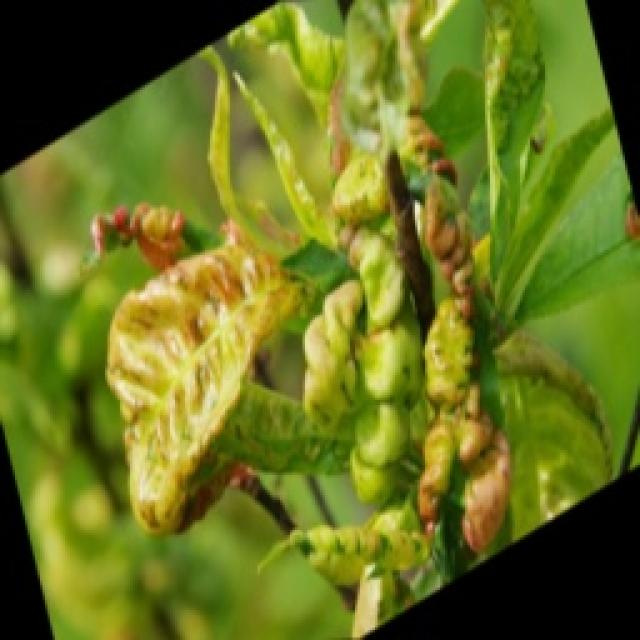Golden_canker: (90, 208, 305, 538)
